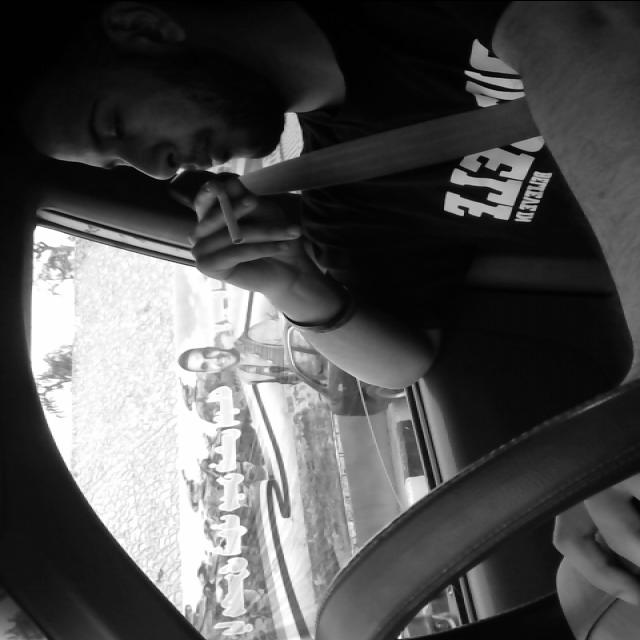smoking: (208, 174, 255, 247)
